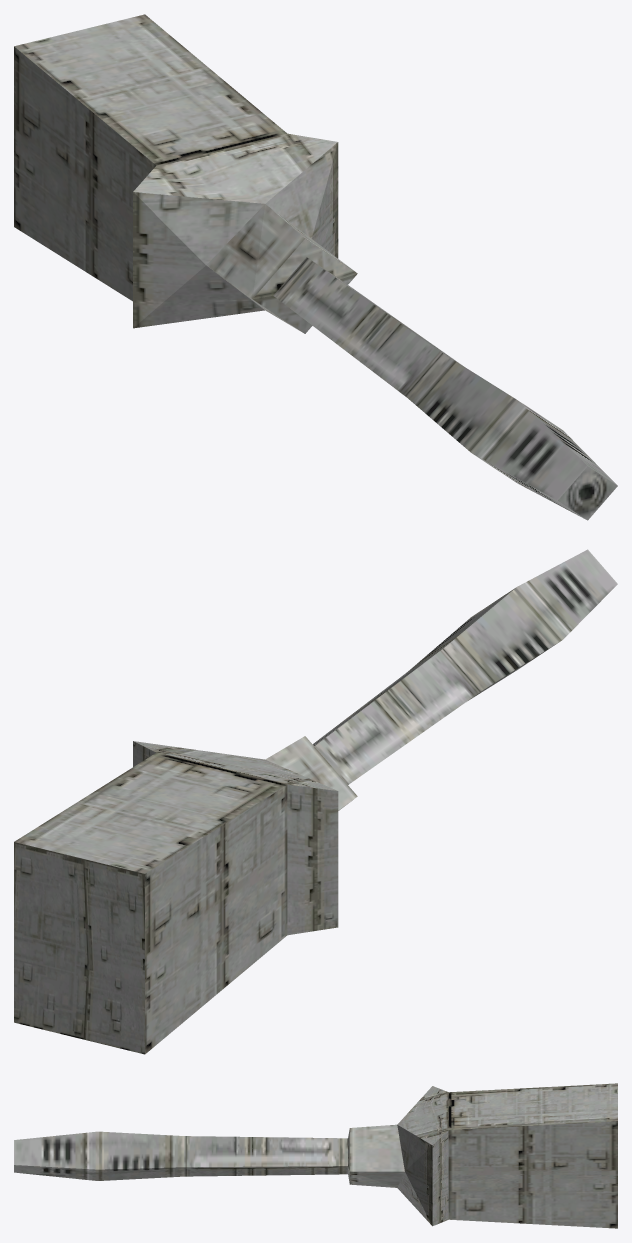
File: ins_all_def_turret_lg_s02_barrel_l2.fbx
3 renders of one model, top to bottom at view 1: azimuth 30°, elevation 25°; view 2: azimuth 150°, elevation 25°; view 3: azimuth 270°, elevation 25°, orthographic. The views are drawn at different scales.
Visible parts, largest first — view 1: mesh_node; view 2: mesh_node; view 3: mesh_node.
Boxes of the visible parts, x1,y1,x2,y2 form: mesh_node: (14,14,617,520); mesh_node: (14,549,617,1054); mesh_node: (14,1083,617,1228).
Bounding box in the file's own units: 0.8163 × 0.687 × 3.5.
